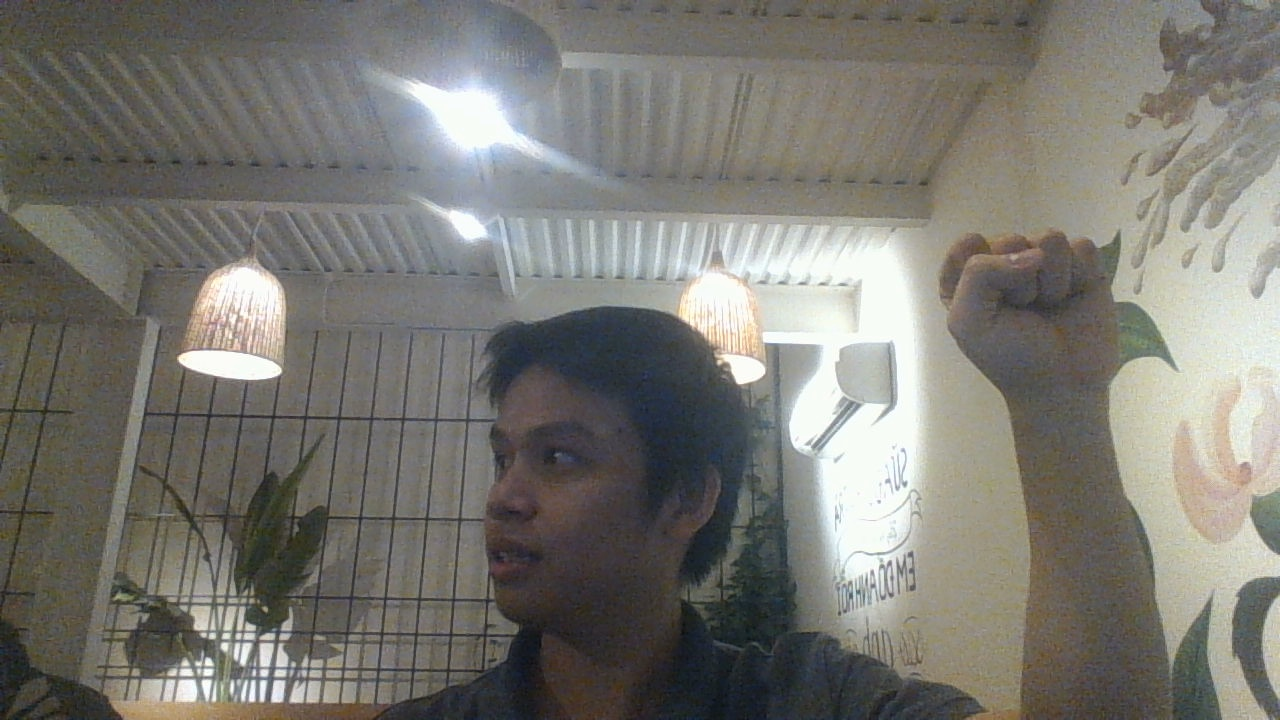stop: (936, 228, 1126, 385)
